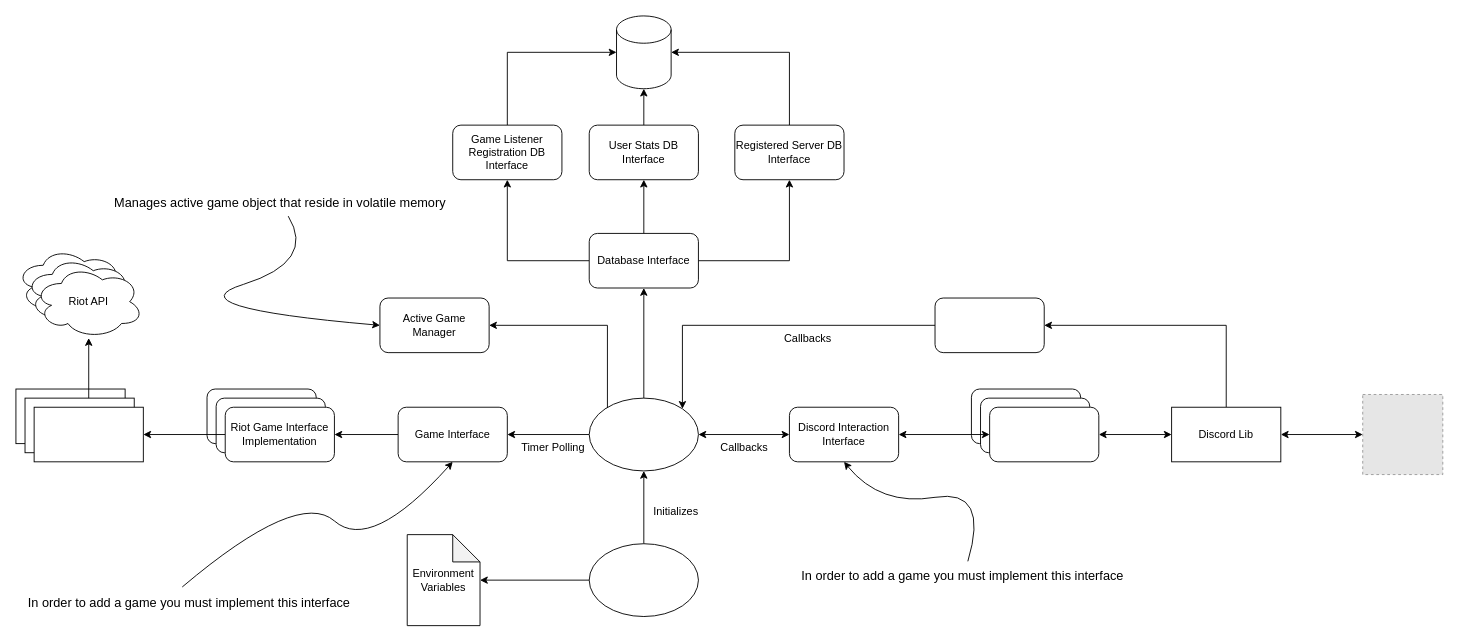
The diagram is 1459 pixels wide and 642 high, and some of its shapes have lost their labels. Grey dashed boxes stand in for pictures. Each missing label, with the centre of its shape:
"Command Processor" goes at point (989, 325).
"Controller" goes at point (643, 434).
"League Discord Interaction Interface Implementation" goes at point (1044, 434).
"Main" goes at point (643, 580).
"Riot REST API Lib" goes at point (88, 434).
"SQL Database" goes at point (643, 52).
